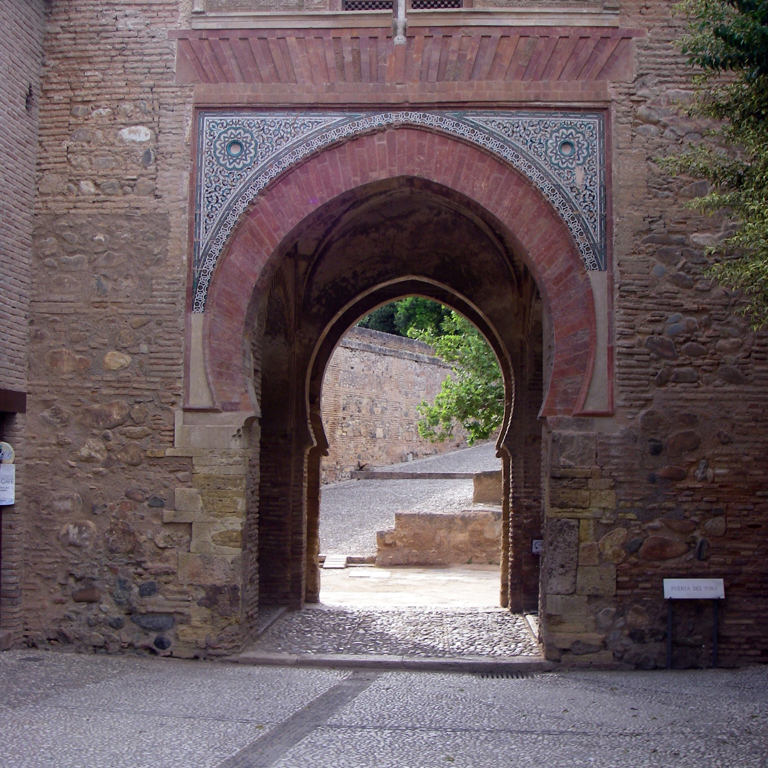arco-herradura: (229, 162, 567, 447)
dintel-adovelado: (175, 32, 628, 95)
